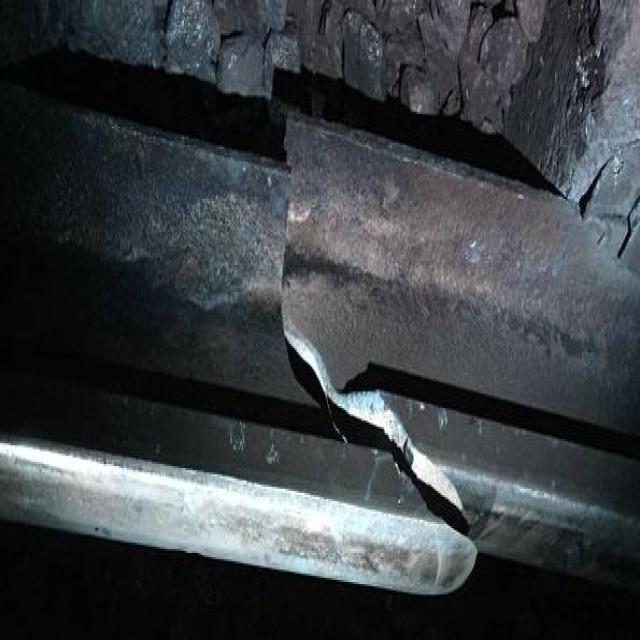broken_rail_high: (266, 108, 480, 577)
